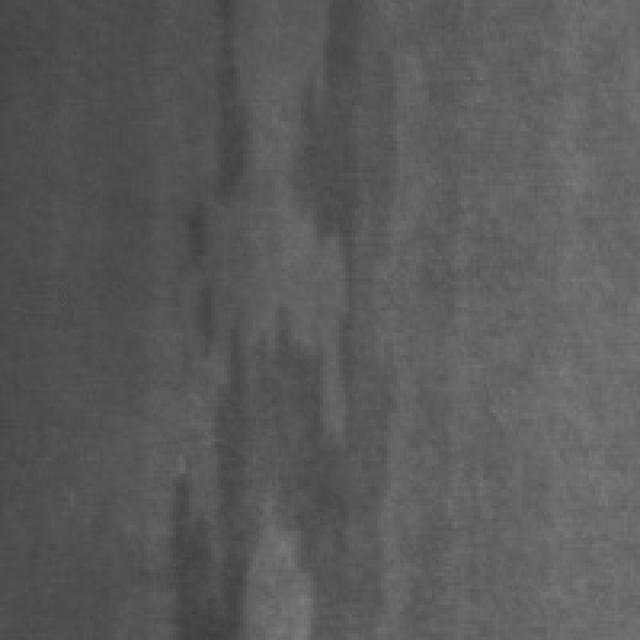inclusion: (148, 297, 374, 634), (285, 0, 406, 371), (157, 3, 253, 285)
